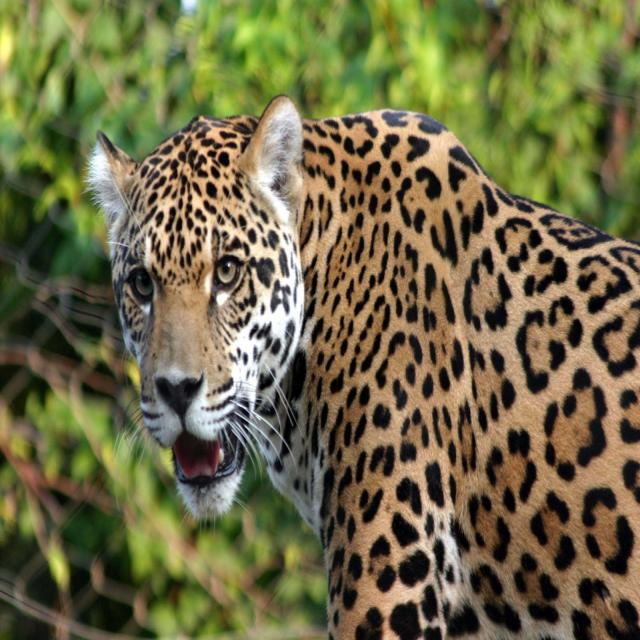Jaguar: (83, 90, 640, 640)
